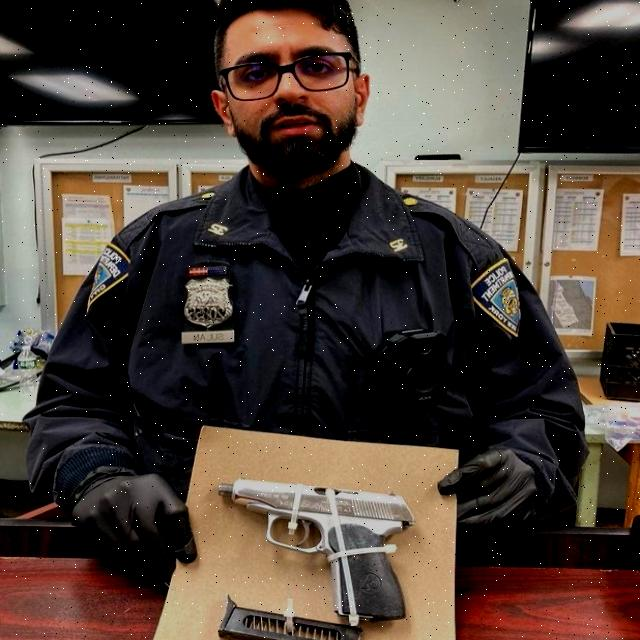police: (82, 0, 583, 476)
